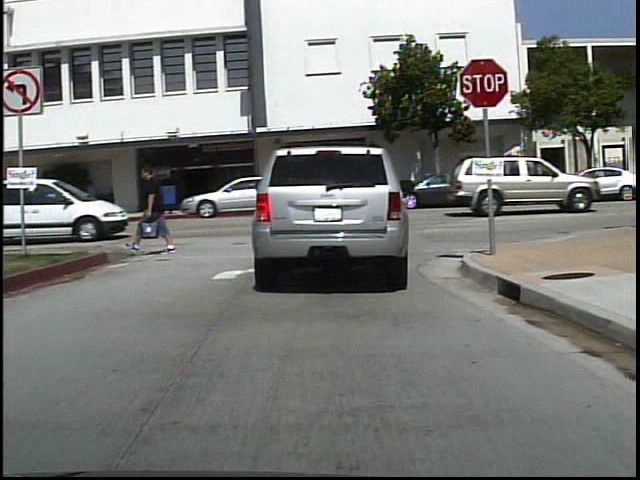person: (130, 161, 183, 256), (59, 172, 82, 217), (82, 174, 105, 215)
